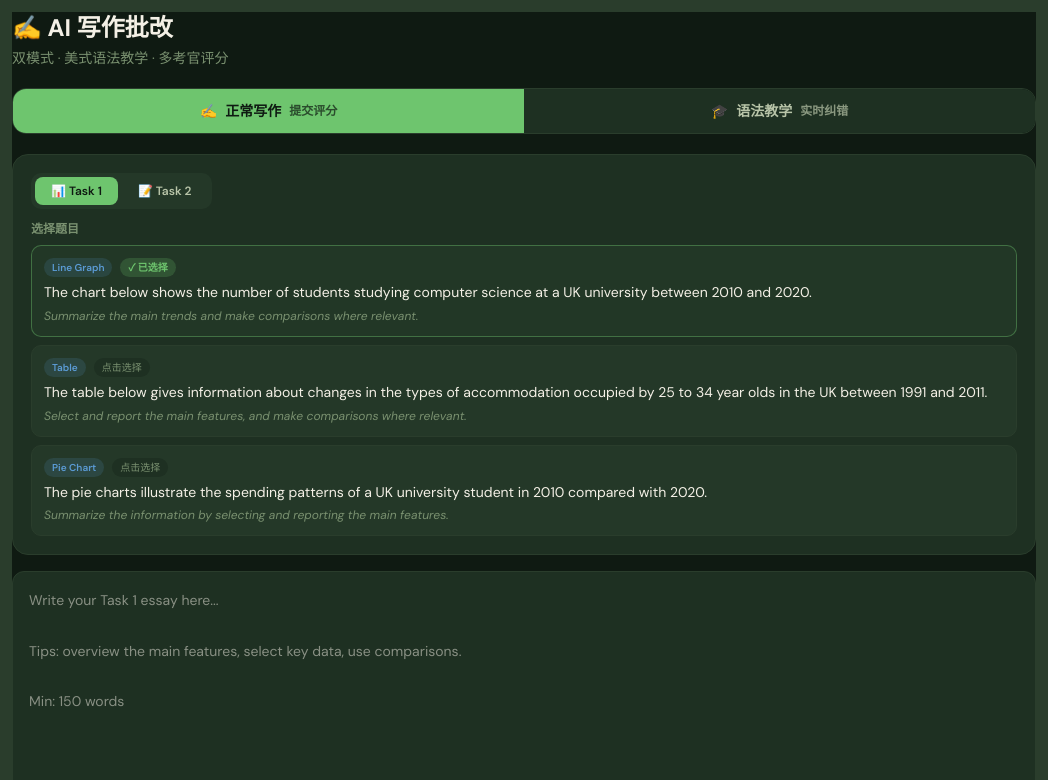
Test: Writing - Task Switching › switches between Task 1 and Task 2
Expected: the text "Line Graph" is shown, [44,258,112,277]
What coordinates should you click on to do the following:
click the button "📝 Task 2"
I would click on:
 (165, 191)
Its box is [122,177,208,205].
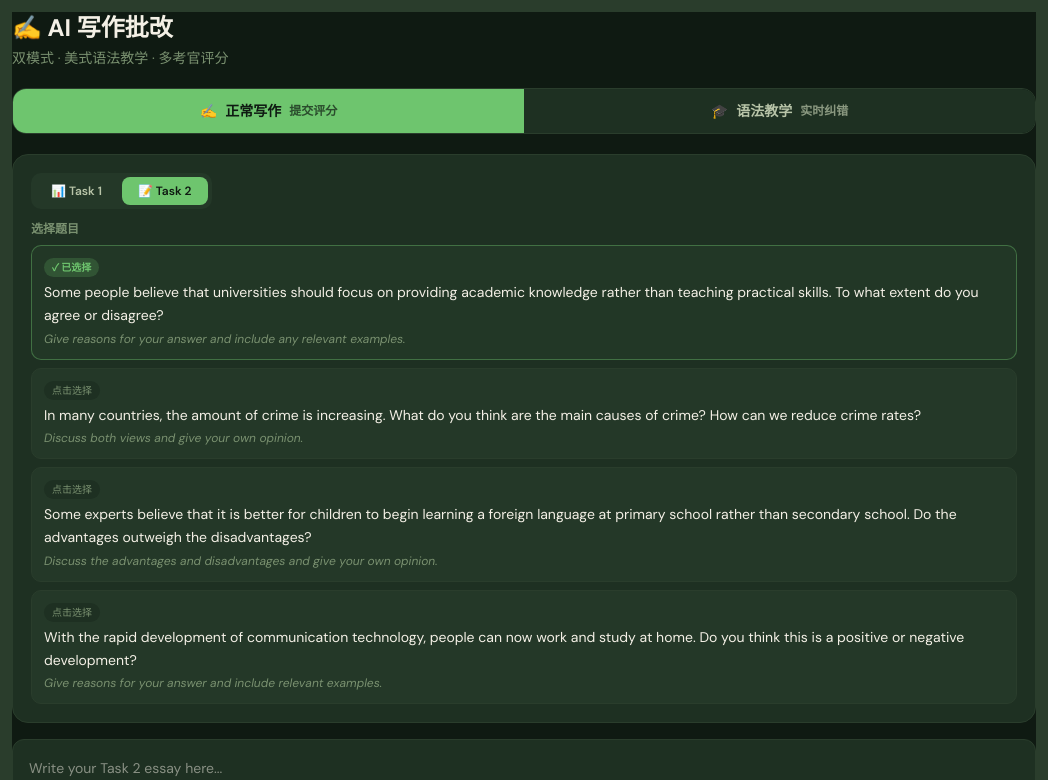
What coordinates should you click on to do the following:
click the button "📊 Task 1"
I would click on:
 (76, 191)
Its box is [35,177,118,205].
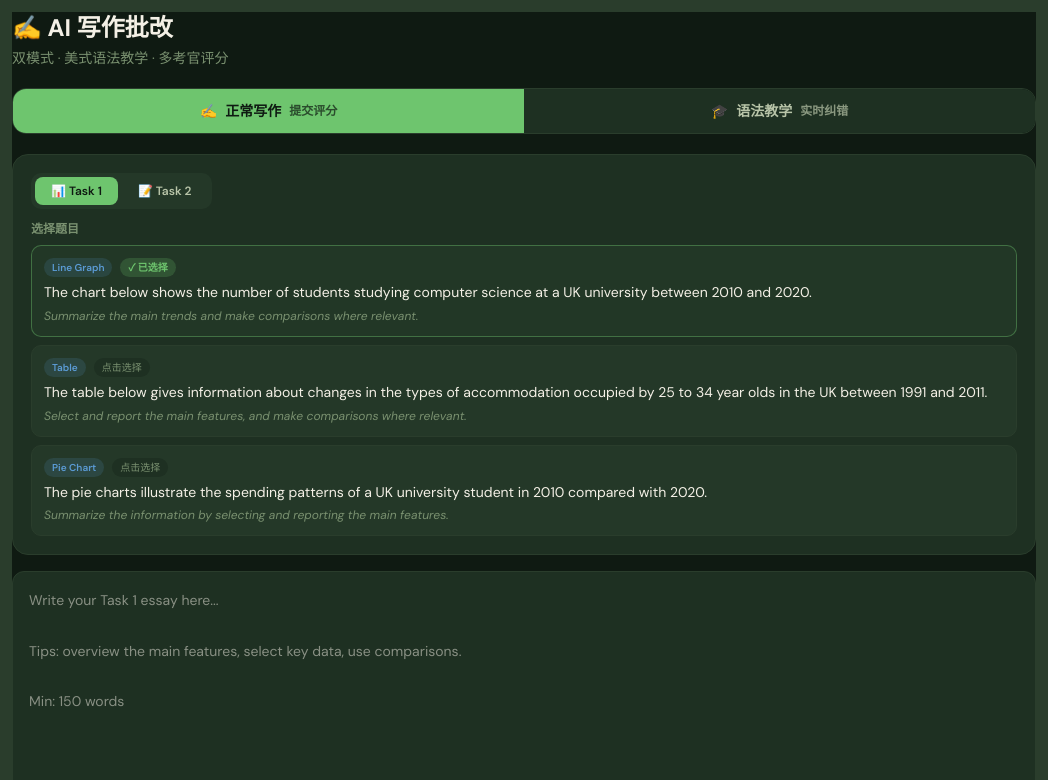
Result: the text "Line Graph" is shown at [44,258,112,277]
